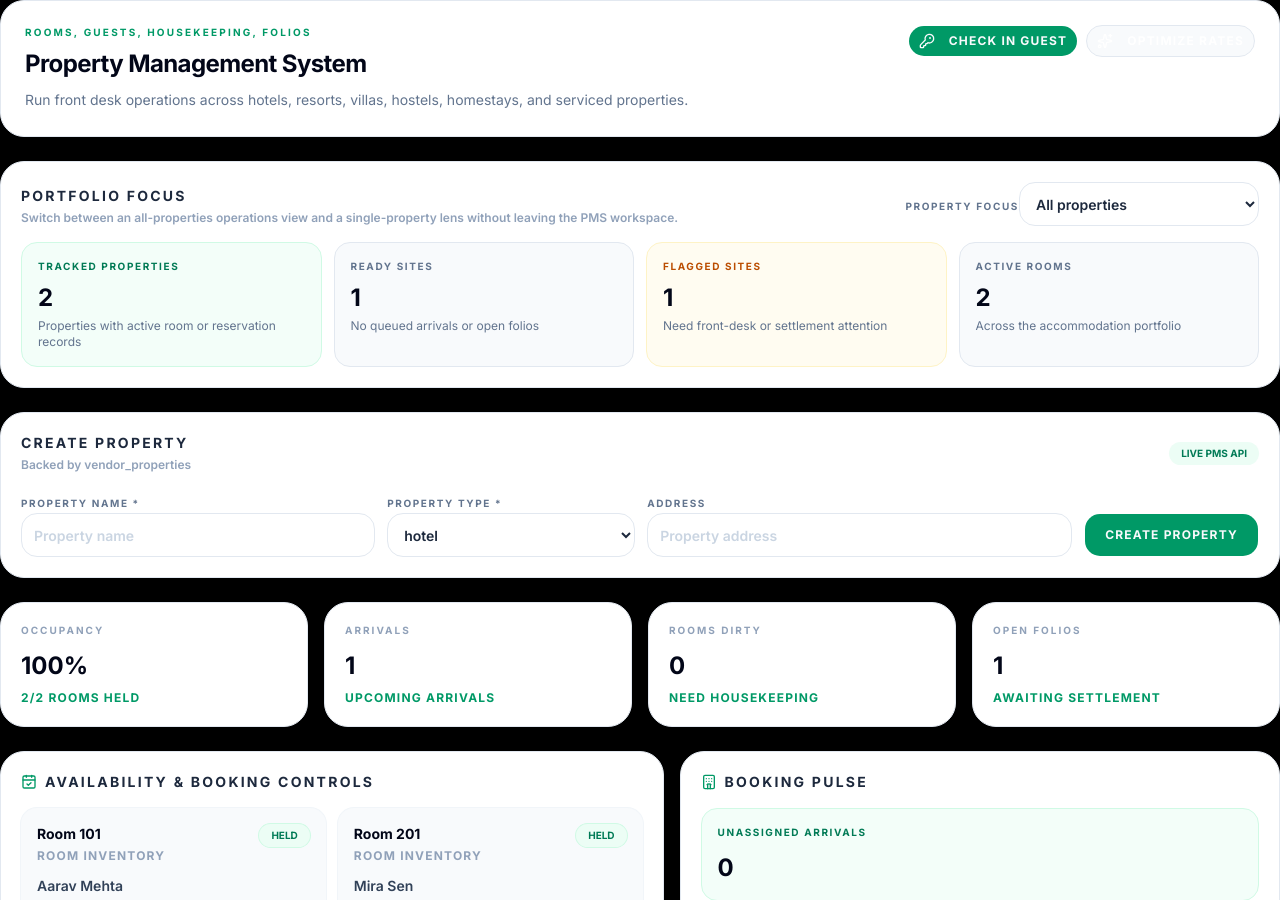
Test: PmsWorkspace › filters PMS operational views by property focus while keeping portfolio totals visible
This screenshot has width=1280, height=900.
Check: the heading "Portfolio Focus" is shown, box [21,187,187,204]
Check: the text "Tracked properties" is shown, box [38,260,179,272]
Step 1. Select "Goa Luxe Villas" in the dropdown named "PMS property focus" → (1139, 204), box [1019,182,1259,226]
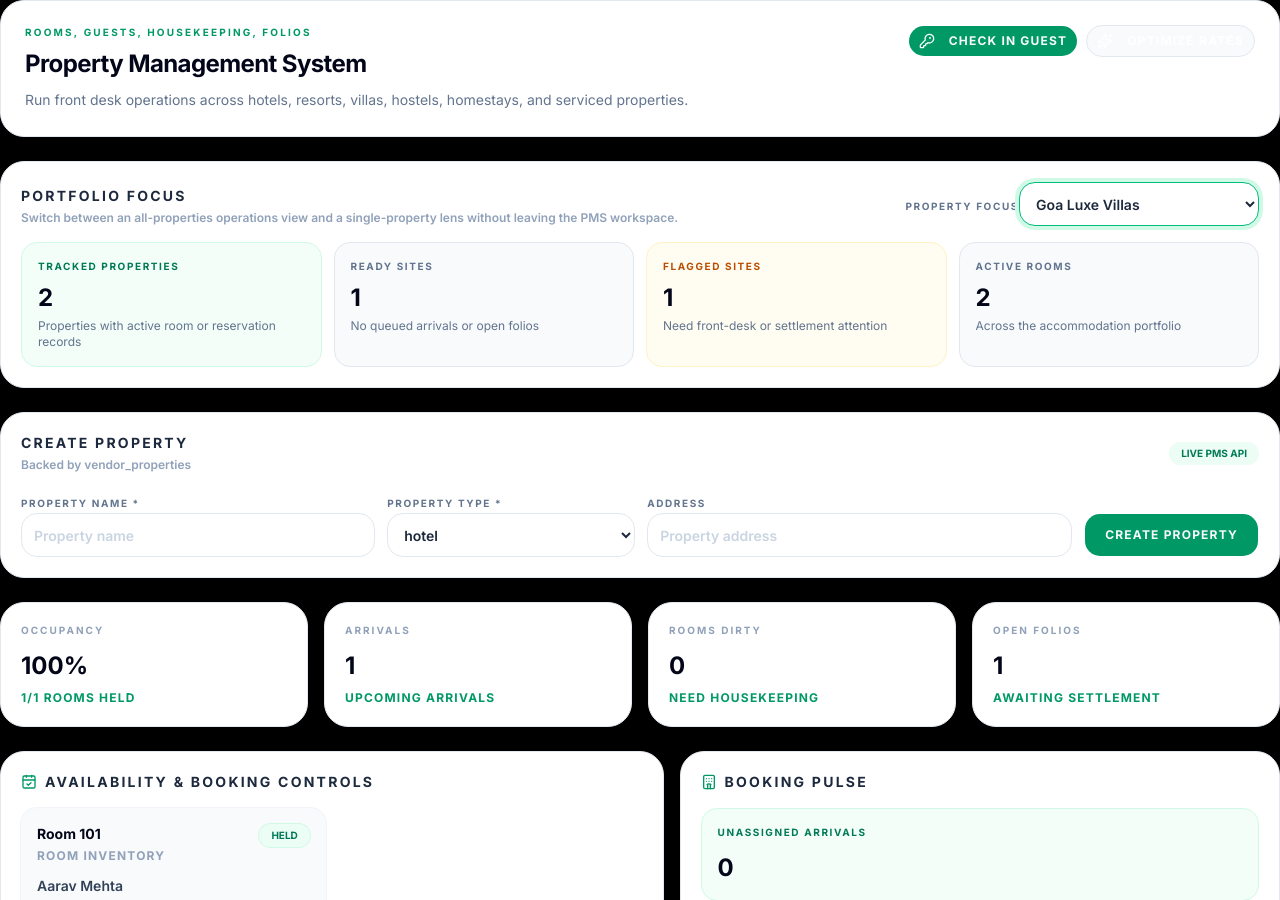
Check: the text "Aarav Mehta" is shown, box [37,877,123,894]
Check: the text "Mira Sen" is gone
Check: the text "Room 201" is gone
